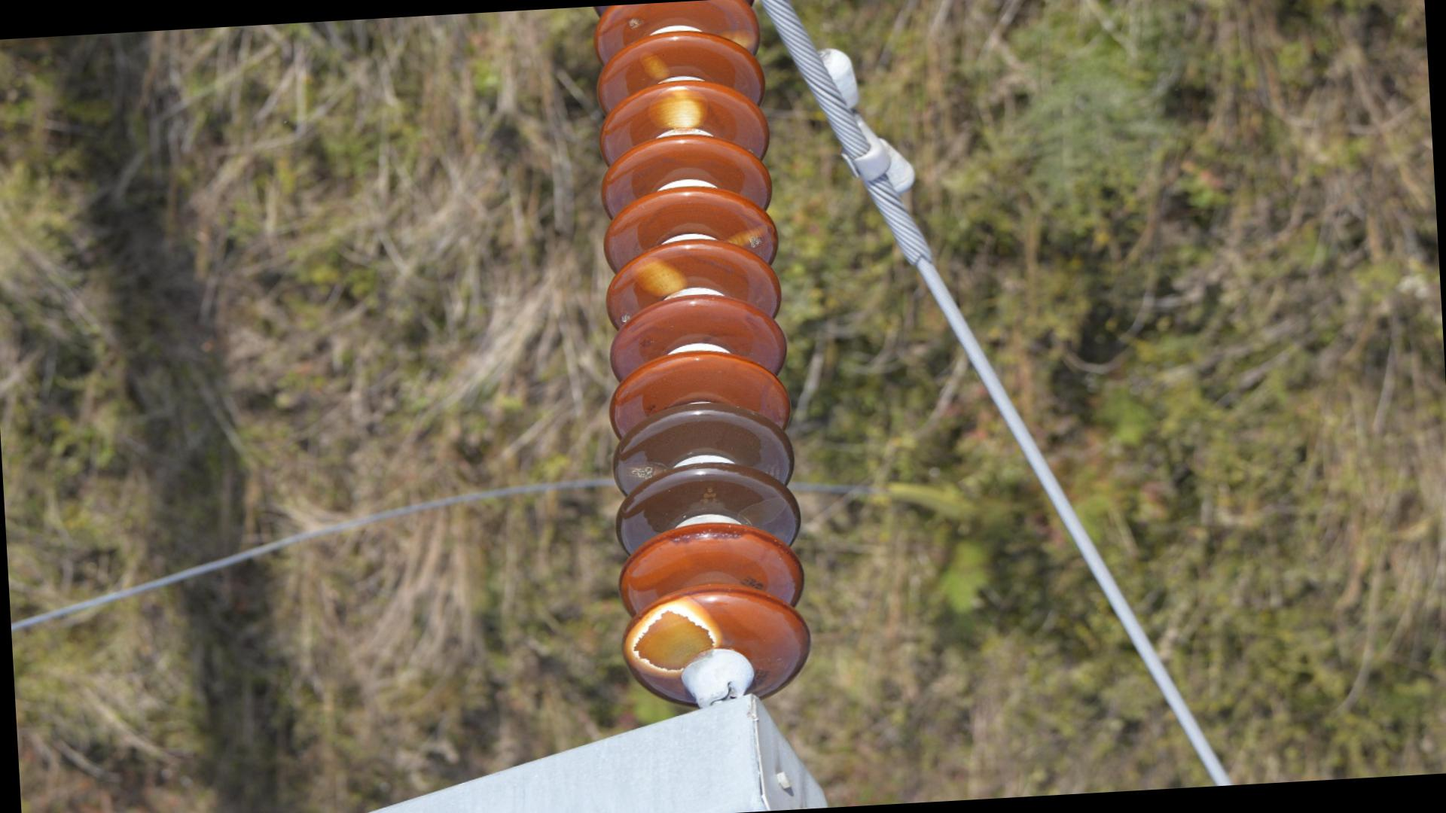damper: (809, 35, 922, 207)
